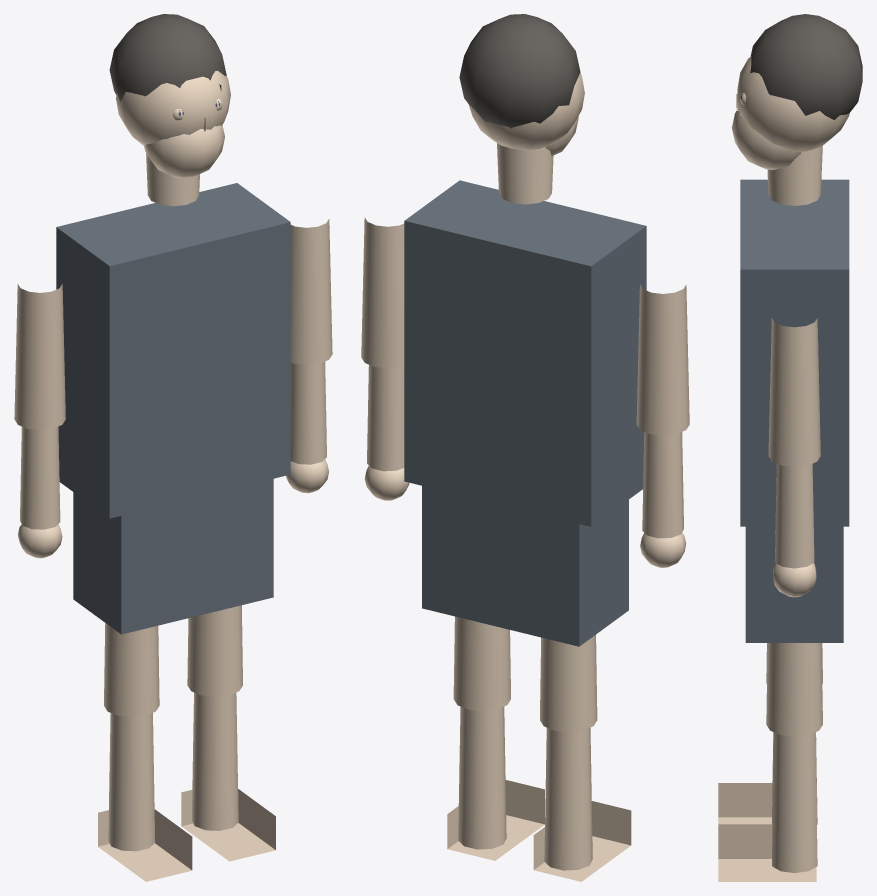
File: body.glb
3 views of the same model, side by side, from view 1: azimuth 30°, elevation 25°; view 2: azimuth 150°, elevation 25°; view 3: azimuth 270°, elevation 25° (orthographic). The views are drawn at different scales.
Visible parts, largest first — view 1: Cloth, Skin, Hair; view 2: Cloth, Skin, Hair; view 3: Skin, Cloth, Hair.
Boxes of the visible parts, bbox=[...] form: Cloth: bbox=[56, 183, 290, 634]; Skin: bbox=[14, 70, 332, 881]; Hair: bbox=[109, 14, 226, 101]; Cloth: bbox=[404, 180, 646, 646]; Skin: bbox=[361, 72, 689, 881]; Hair: bbox=[459, 14, 580, 128]; Skin: bbox=[718, 56, 849, 881]; Cloth: bbox=[740, 179, 849, 642]; Hair: bbox=[747, 14, 862, 119].
Size of the model in its own units: 0.6709 by 1.68 by 0.2646.
